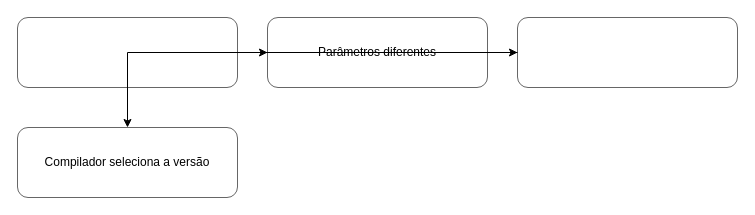
The diagram is 755 pixels wide and 215 high, and some of its shapes have lost their labels. The centre of each missing label's shape, as x and y in pixels:
"Assinatura distinta" goes at [627,52].
"Mesmo nome" goes at [127,52].
